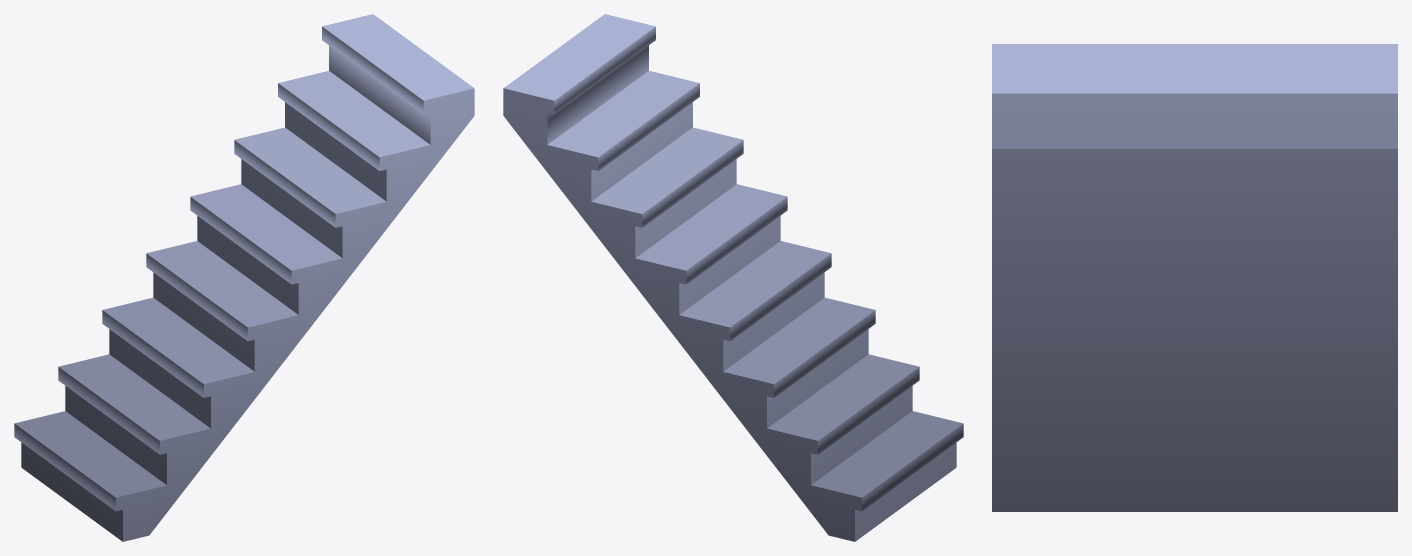
Rendered from stairs-kn-stairs-stone.glb.
The picture shows the model from 3 angles, left to right: view 1: azimuth 30°, elevation 25°; view 2: azimuth 150°, elevation 25°; view 3: azimuth 270°, elevation 25°; orthographic projection. The views are drawn at different scales.
Visible parts, largest first — view 1: stairs-stone; view 2: stairs-stone; view 3: stairs-stone.
Boxes of the visible parts, x1=… form: stairs-stone: x1=14, y1=14, x2=474, y2=541; stairs-stone: x1=503, y1=14, x2=963, y2=541; stairs-stone: x1=992, y1=44, x2=1397, y2=511.
Bounding box in the file's own units: 3.06 × 3 × 1.5.
1 material, 1 textured.
